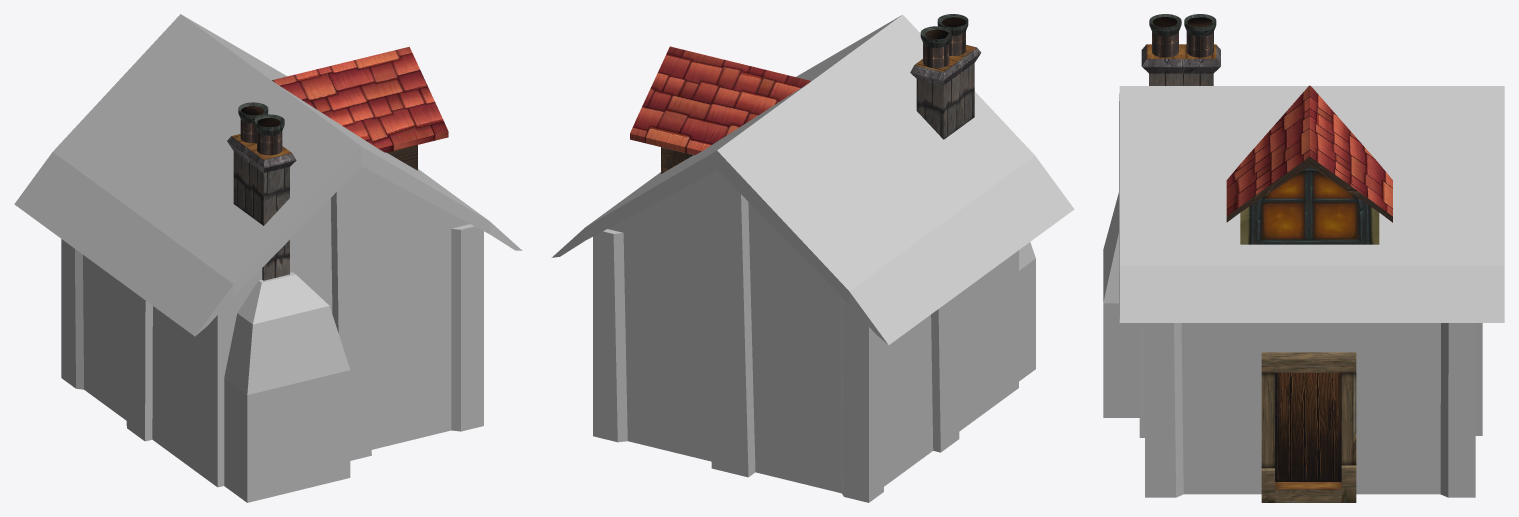
Rendered from human_farm.fbx.
3 views of the same model, side by side, from view 1: azimuth 30°, elevation 25°; view 2: azimuth 150°, elevation 25°; view 3: azimuth 270°, elevation 25° (orthographic). The views are drawn at different scales.
Visible parts, largest first — view 1: Cube, Cube_003, Cube_001, Cube_002, Cylinder_005, Cylinder_004; view 2: Cube, Cube_001, Cube_002, Cube_003, Cylinder_004, Cylinder_005; view 3: Cube, Cube_001, Cube_004, Cube_003, Cube_002, Cylinder_004, Cylinder_005.
Boxes of the visible parts, box(x1,y1,x2,y2) form: Cube: box(14, 14, 522, 487); Cube_003: box(224, 272, 350, 502); Cube_001: box(272, 46, 448, 170); Cube_002: box(227, 134, 296, 280); Cylinder_005: box(254, 114, 284, 155); Cylinder_004: box(238, 102, 268, 143); Cube: box(551, 14, 1074, 502); Cube_001: box(630, 46, 810, 173); Cube_002: box(910, 45, 981, 139); Cube_003: box(1019, 242, 1035, 381); Cylinder_004: box(920, 26, 951, 68); Cylinder_005: box(937, 14, 968, 55); Cube: box(1119, 86, 1504, 497); Cube_001: box(1226, 85, 1392, 244); Cube_004: box(1261, 352, 1356, 502); Cube_003: box(1103, 193, 1139, 417); Cube_002: box(1141, 44, 1220, 85); Cylinder_004: box(1184, 14, 1216, 57); Cylinder_005: box(1149, 14, 1181, 57).
Bounding box in the file's own units: 2 × 2.03 × 1.99.
